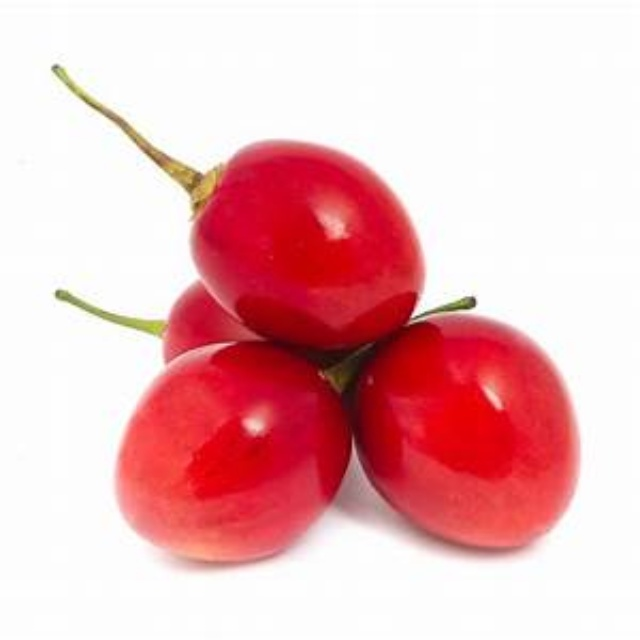tomato: (157, 122, 440, 343), (112, 343, 381, 573), (350, 309, 568, 547)
